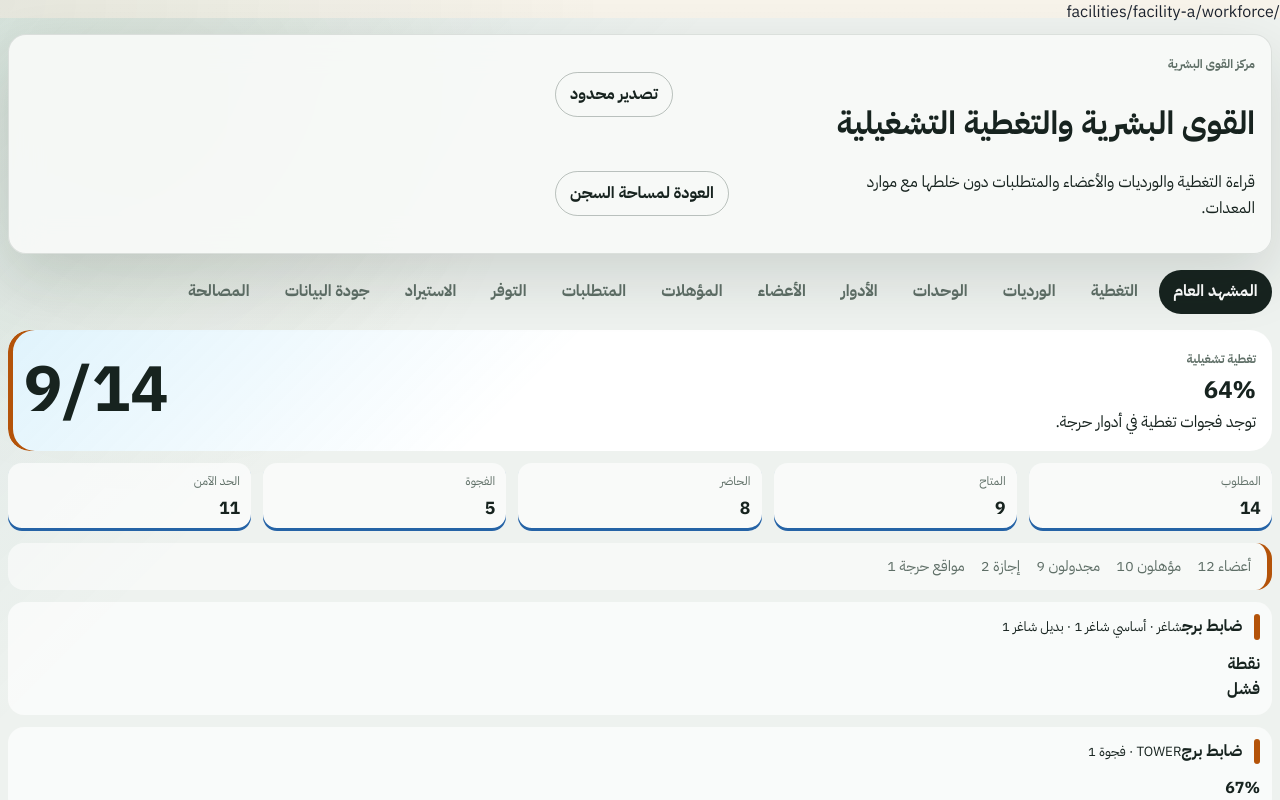
Test: FacilityWorkforcePage › renders coverage overview and section navigation
Expected: the heading "القوى البشرية والتغطية التشغيلية" is shown, [820,98,1255,149]
Expected: the heading "64%" is shown, [1204,372,1256,408]
Click the button "الأعضاء".
click(782, 292)  # box [743,270,820,314]
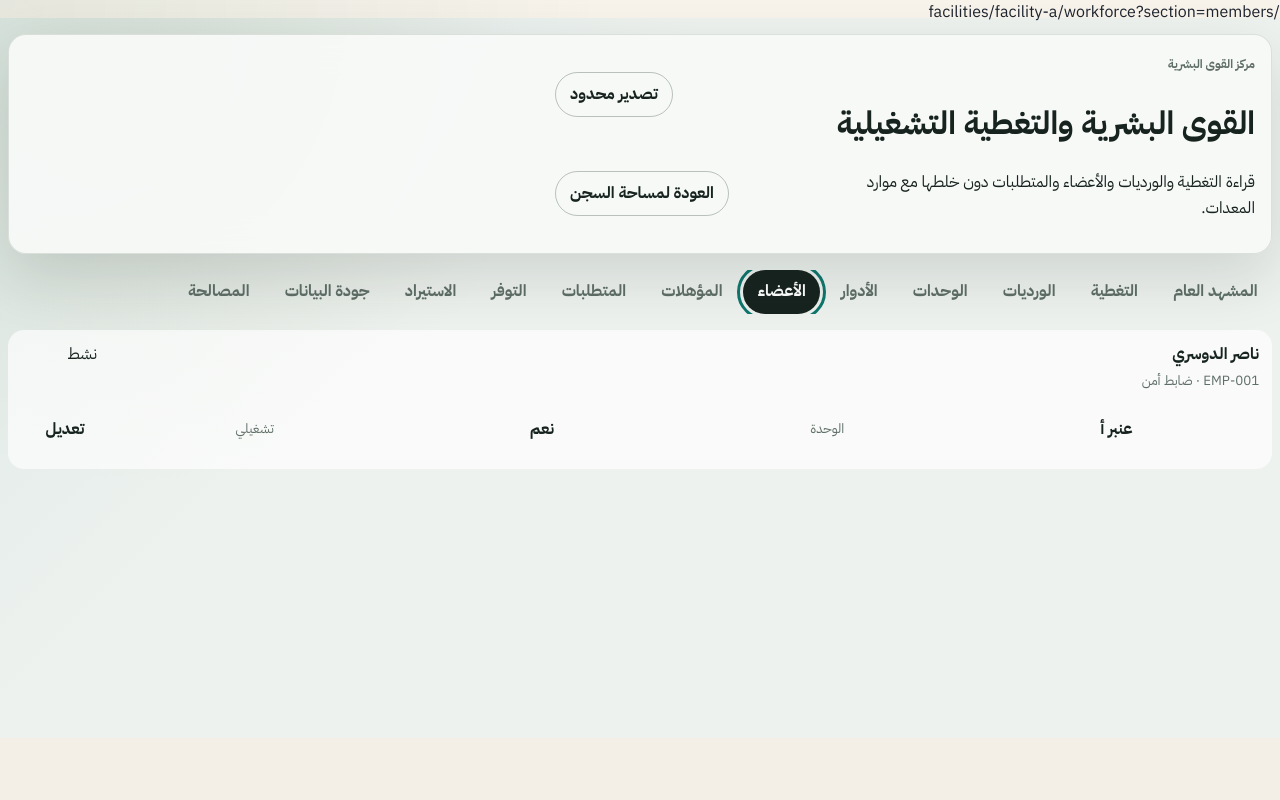
Now the list named "سجلات الأعضاء" is shown, box [8,330,1272,468]
Now the text "ناصر الدوسري" is shown, box [1172,342,1259,366]
